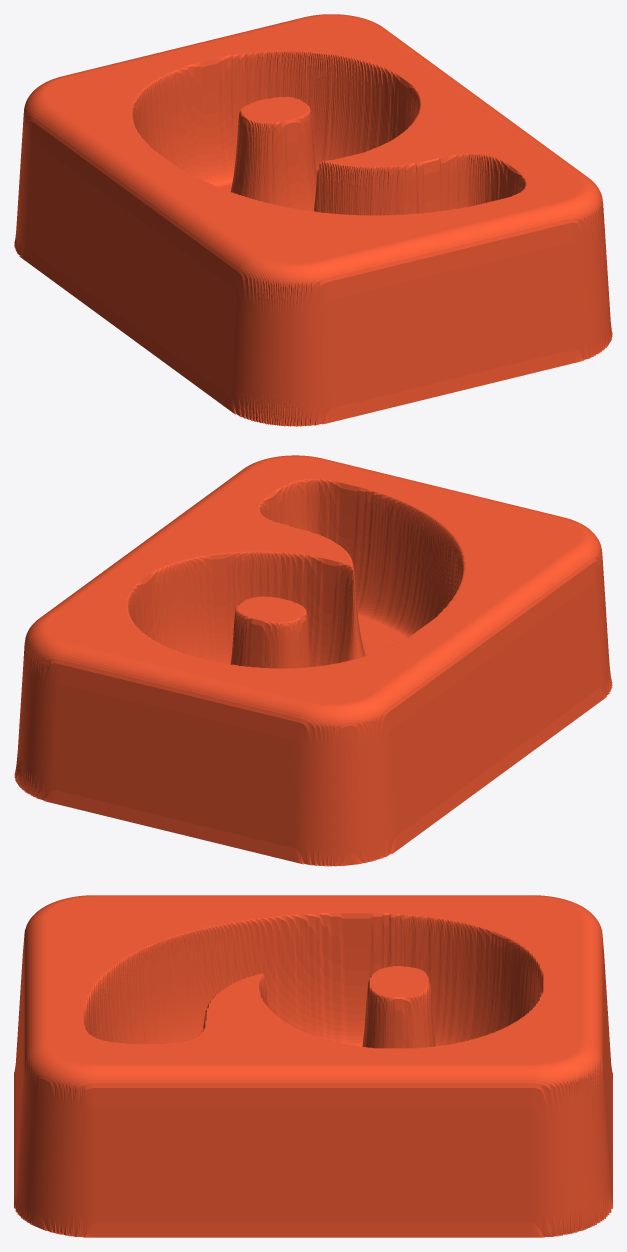
The model's file is mold.glb.
3 views of the same model, one above another, from view 1: azimuth 30°, elevation 25°; view 2: azimuth 150°, elevation 25°; view 3: azimuth 270°, elevation 25° (orthographic). The views are drawn at different scales.
Visible parts, largest first — view 1: geometry_0; view 2: geometry_0; view 3: geometry_0.
Boxes of the visible parts, bbox=[...] form: geometry_0: bbox=[14, 14, 612, 426]; geometry_0: bbox=[14, 455, 612, 866]; geometry_0: bbox=[14, 895, 612, 1237].
Bounding box in the file's own units: 0.0514 × 0.0197 × 0.067.
